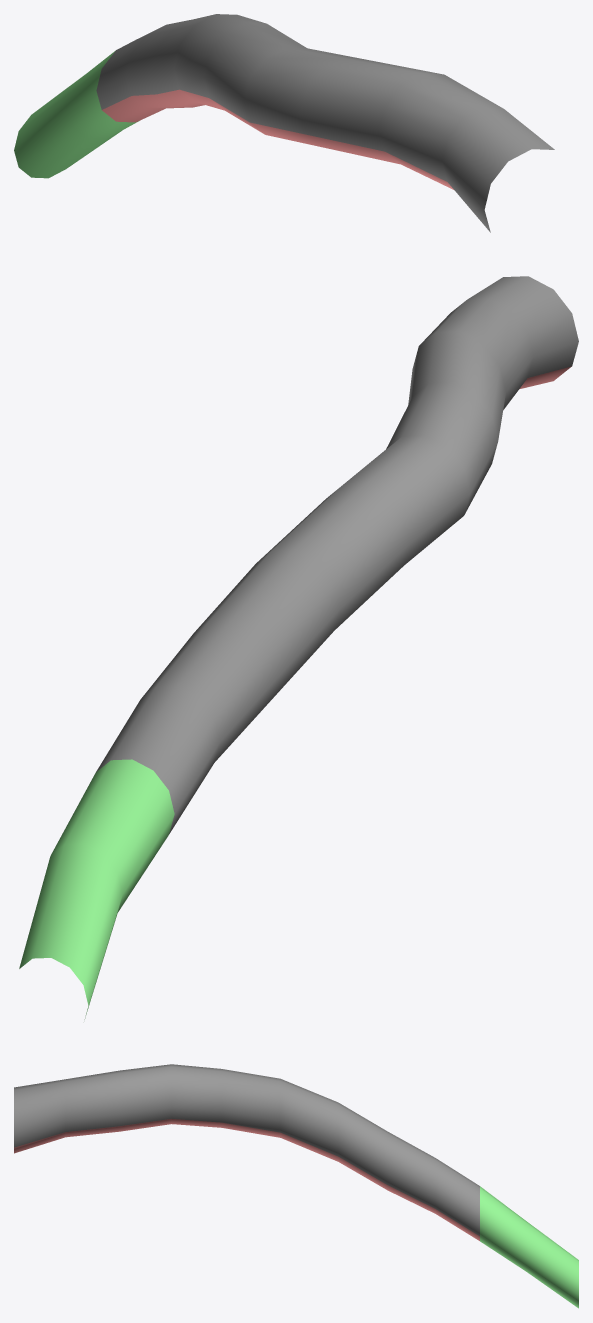
The picture shows the model from 3 angles, top to bottom: view 1: azimuth 30°, elevation 25°; view 2: azimuth 150°, elevation 25°; view 3: azimuth 270°, elevation 25°; orthographic projection. The views are drawn at different scales.
Parts seen in each view (by area): view 1: root_05_03; view 2: root_05_03; view 3: root_05_03.
Boxes of the visible parts, x1,y1,x2,y2 form: root_05_03: [14, 14, 554, 232]; root_05_03: [19, 276, 578, 1019]; root_05_03: [14, 1064, 578, 1308].
Bounding box in the file's own units: 10.3 × 22.94 × 50.58.
